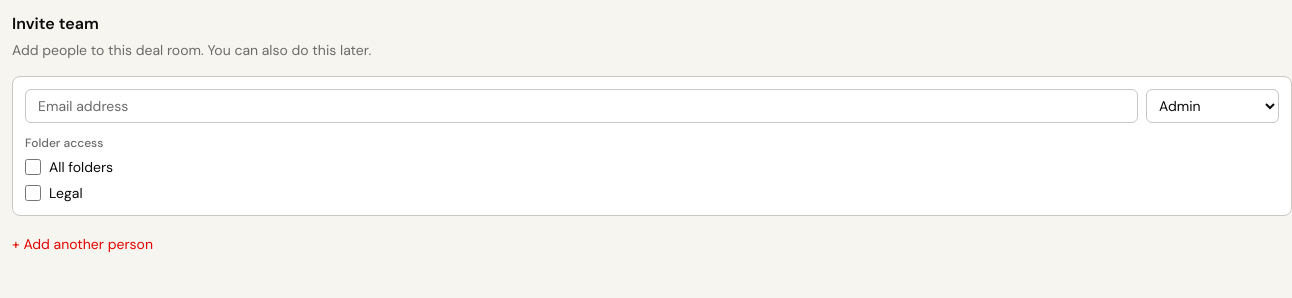
Test: StepInvite › does NOT show folder hint when All folders is checked
Select "Client" in the dropdown named "role 1" at [1212, 106], box left=1146, top=89, right=1279, bottom=123
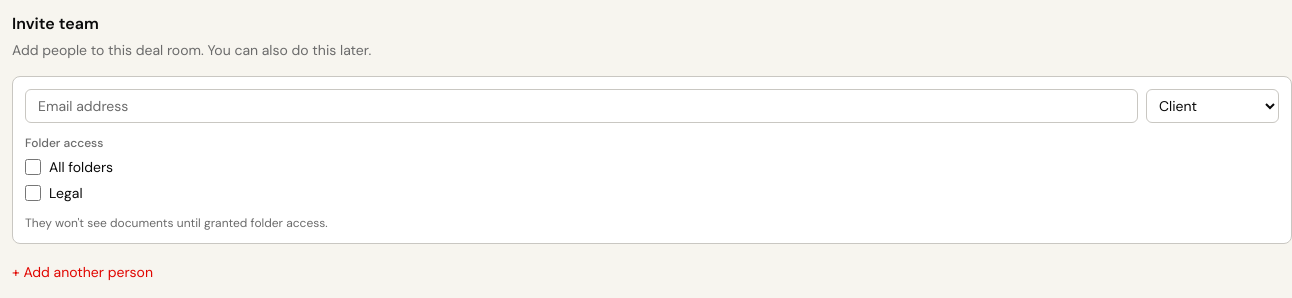
Click the checkbox labelled "All folders" at [33, 167], box left=25, top=159, right=41, bottom=175
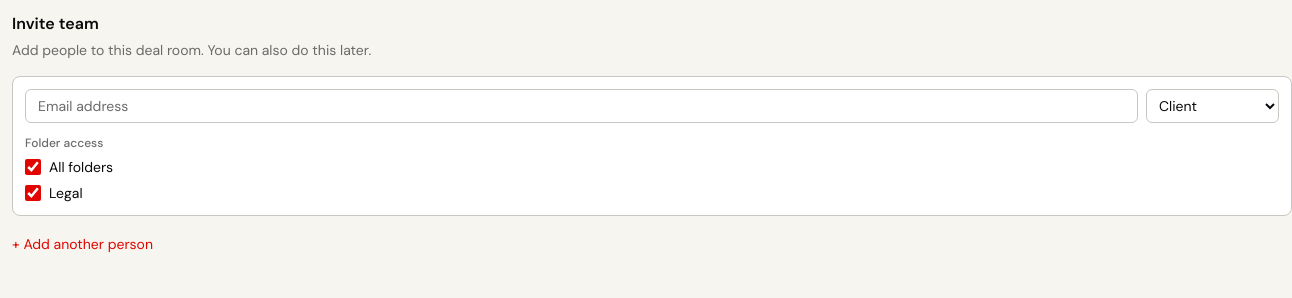
Expected: the text "They won't see documents until granted folder access" is gone
